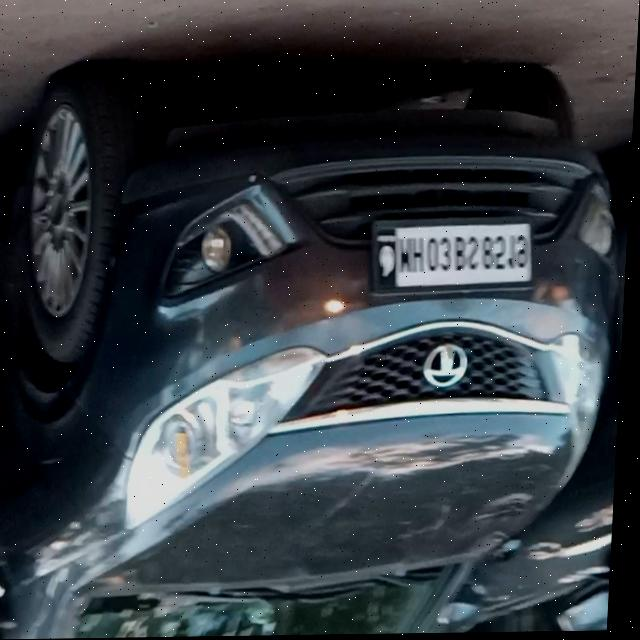plate: (365, 209, 544, 306)
